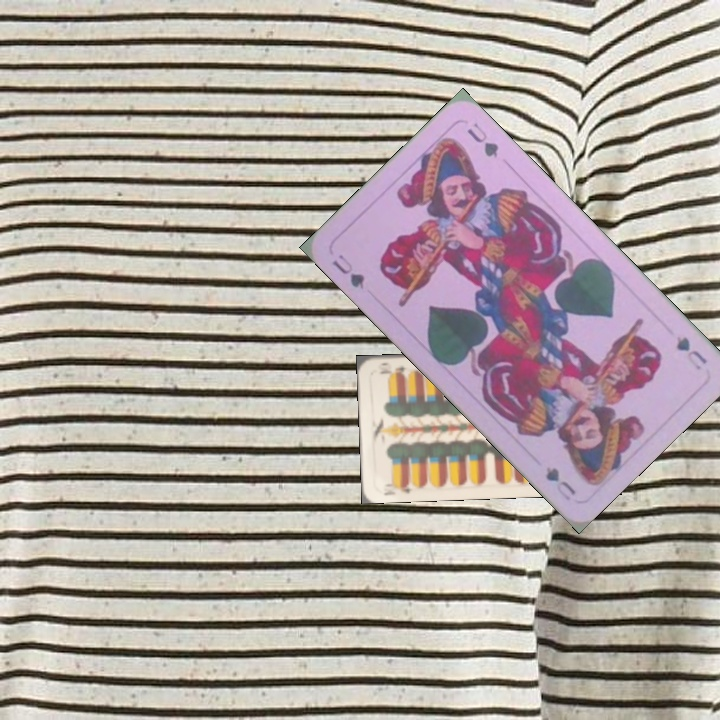E10: (380, 478, 414, 498)
GU: (327, 250, 368, 292), (671, 332, 710, 373)
